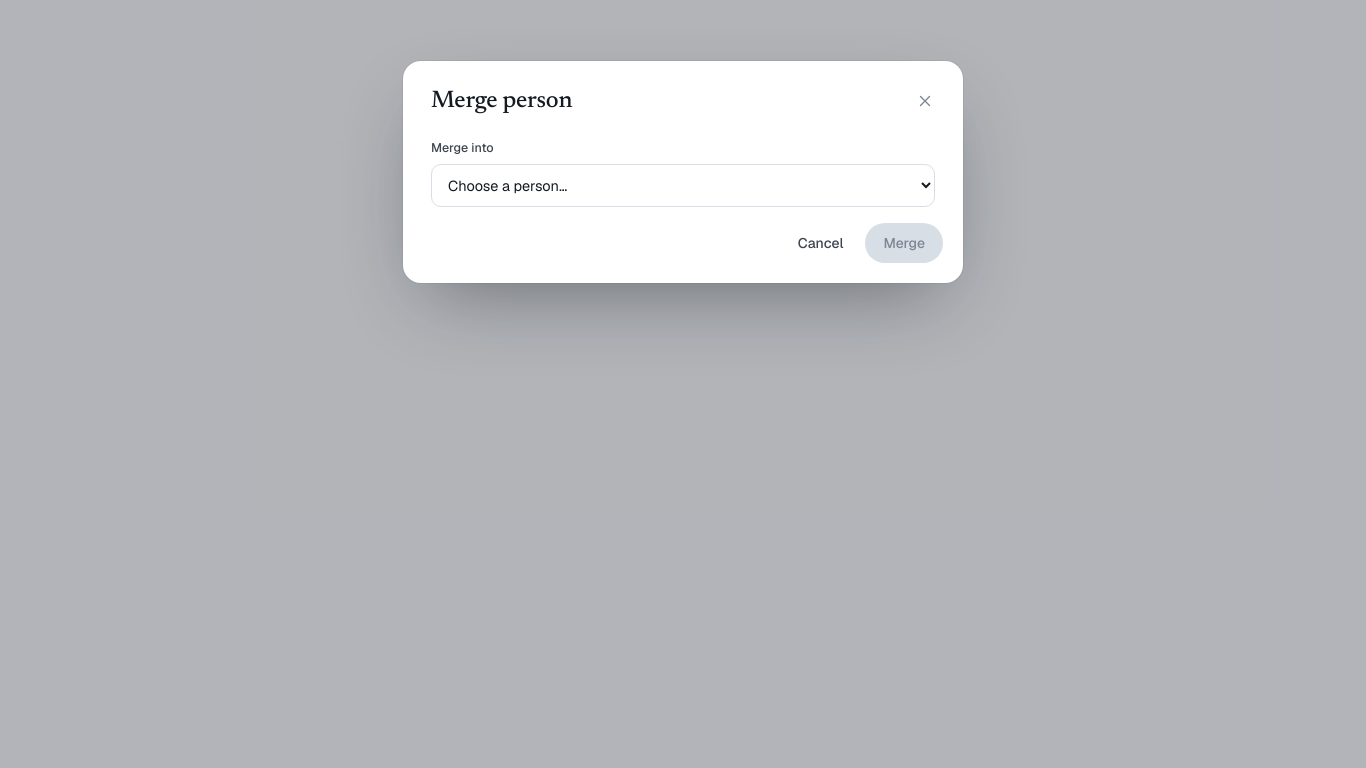
it: MergePersonDialog › shows the conflict copy on a 409 and stays open
Step 1. Select "Amy First" in the dropdown labelled "Merge into" → (683, 186), box [431, 164, 935, 207]
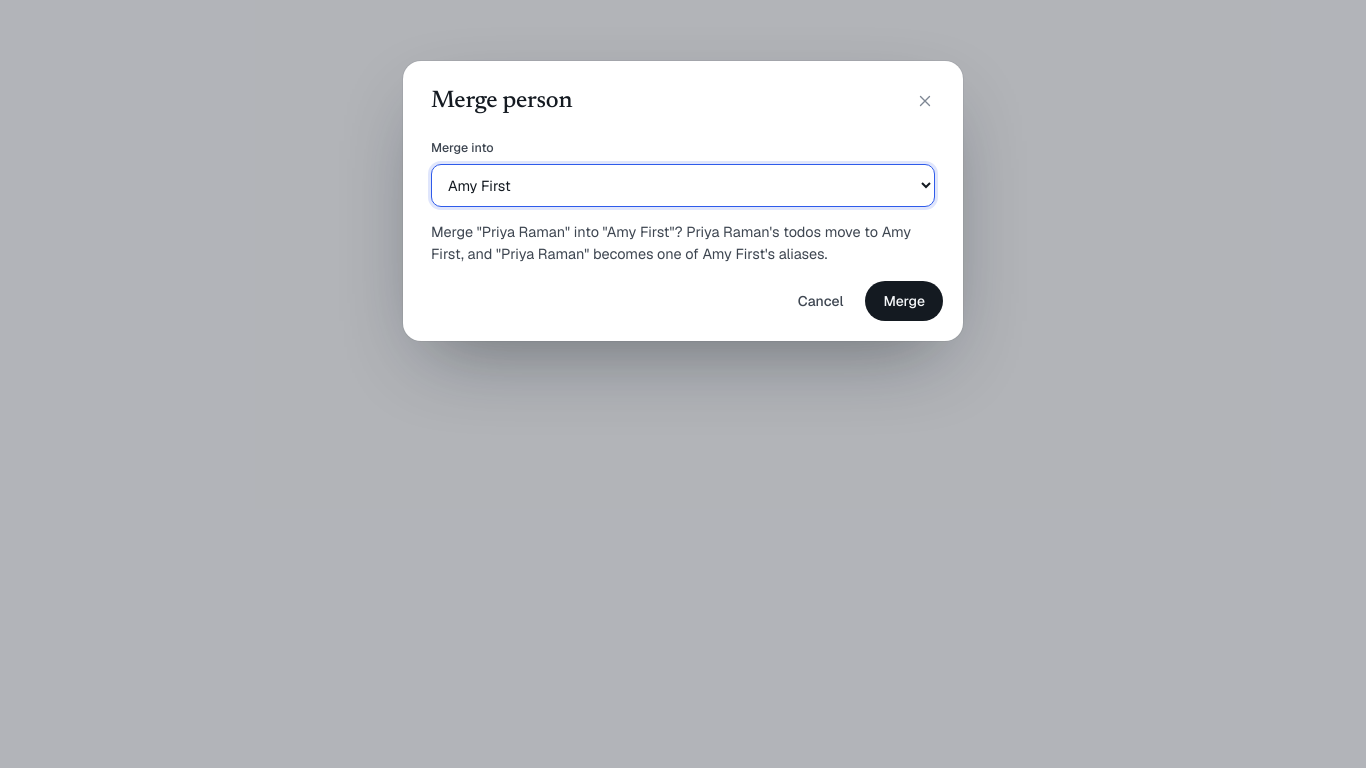
Step 2. Click the button "Merge" → (904, 301), box [865, 281, 943, 321]
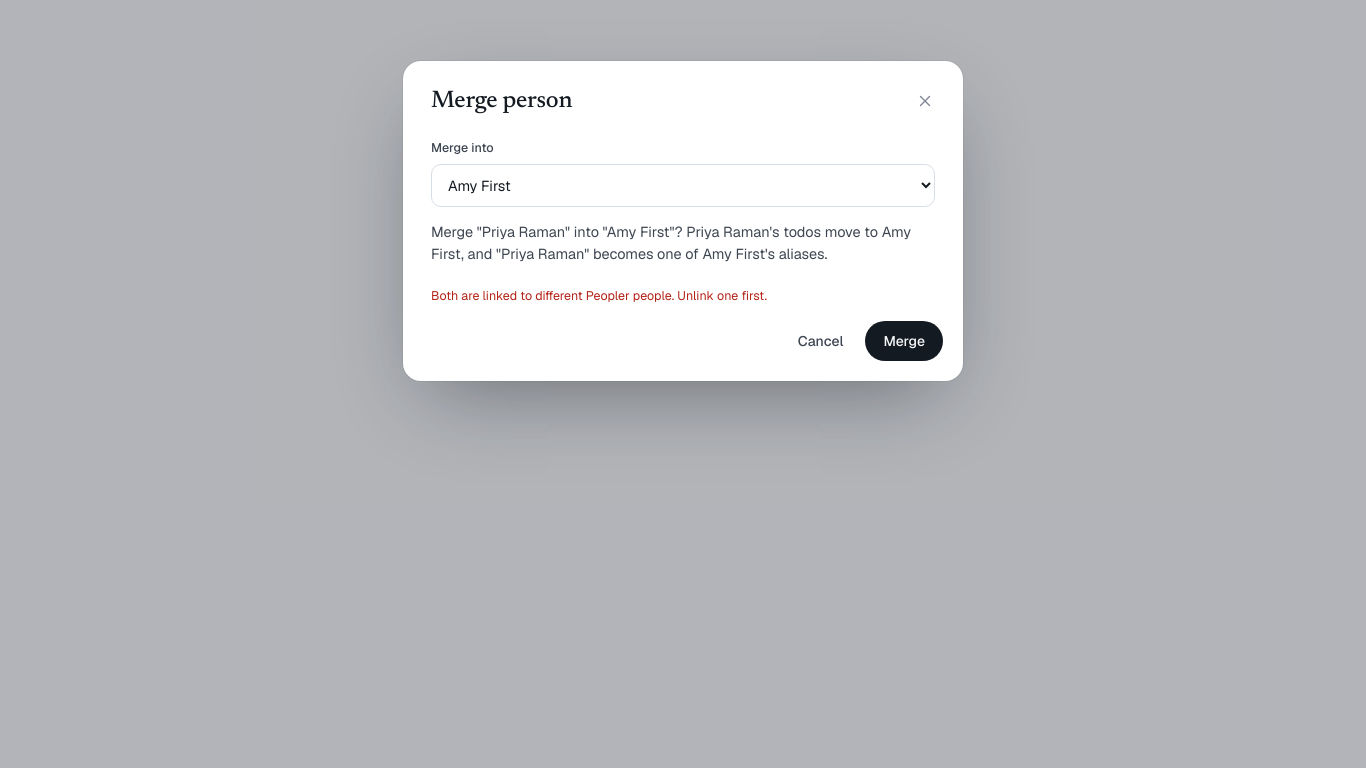
Expected: the dialog is shown, [403, 61, 963, 381]
Now the text "Both are linked to different Peopler people. Unlink one first." is shown, box [431, 287, 767, 304]
